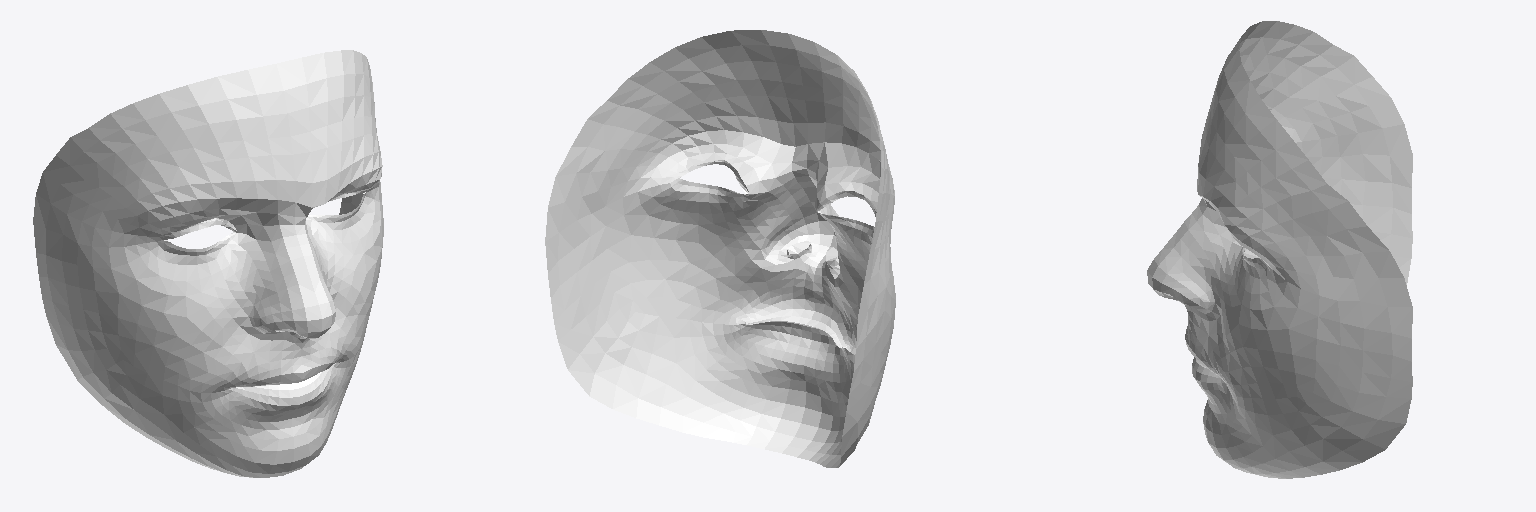
Rendered from browDown_L.obj.
The picture shows the model from 3 angles: view 1: azimuth 30°, elevation 25°; view 2: azimuth 150°, elevation 25°; view 3: azimuth 270°, elevation 25°; orthographic projection.
Parts seen in each view (by area): view 1: default; view 2: default; view 3: default.
Part boxes in pixels (x1,y1,x2,y2): default: (33, 50, 383, 477); default: (545, 30, 895, 467); default: (1147, 21, 1412, 478).
Size of the model in its own units: 0.1447 by 0.1816 by 0.1055.